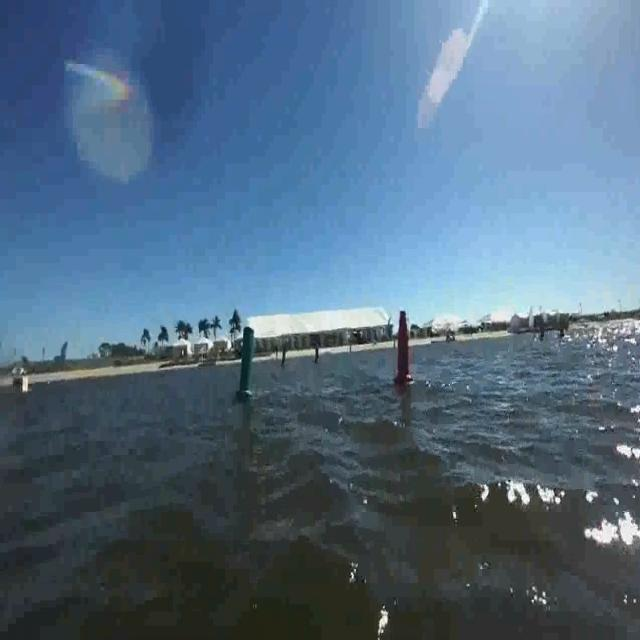green-column-buoy: (237, 326, 258, 401), (281, 345, 288, 367)
red-column-buoy: (393, 307, 413, 386)
yellow-buoy: (208, 456, 218, 472)
